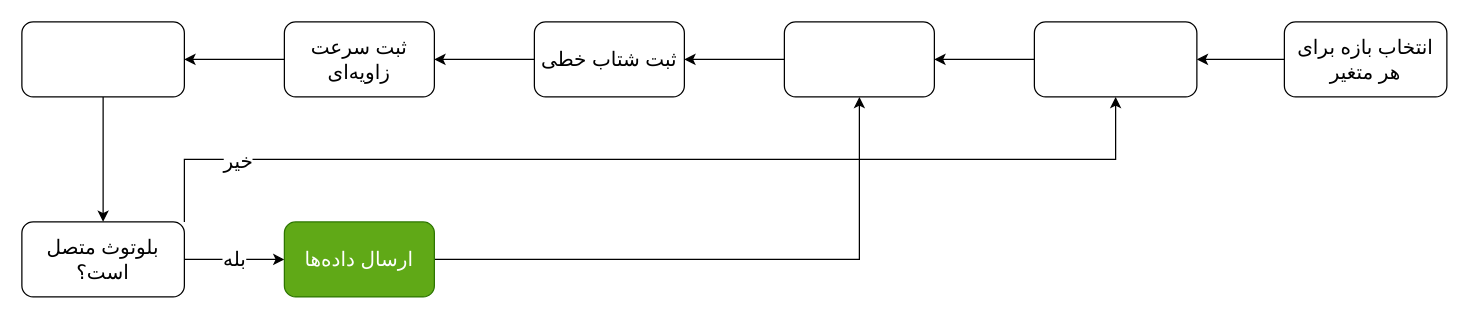
The diagram is 1469 pixels wide and 319 high, and some of its shapes have lost their labels. Here are the shapes that lost their labels. From the top down, the centre of each, then its label:
point 102,59: ایجاد یک بسته داده
point 858,59: ثبت زمان داده‌برداری
point 1115,59: مقداردهی اولیه
